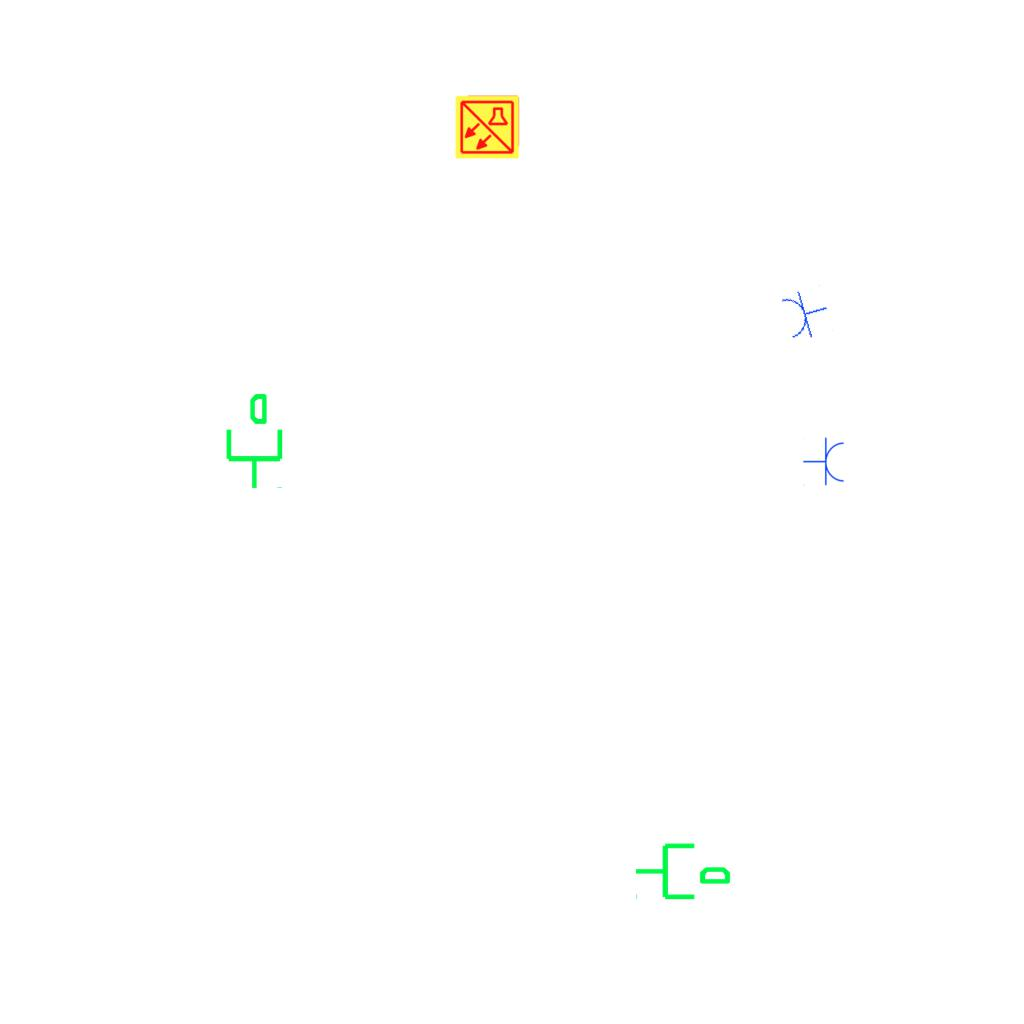Datenanschluss_einfach: (633, 835, 733, 904), (218, 391, 287, 491)
OKW_Multisensormelder_(Kombination_optischer_Rauch-Kahlenmonoxid_Waerme-Melder): (454, 94, 520, 160)
Schukosteckdose_einfach: (778, 283, 834, 344), (803, 437, 846, 487)
